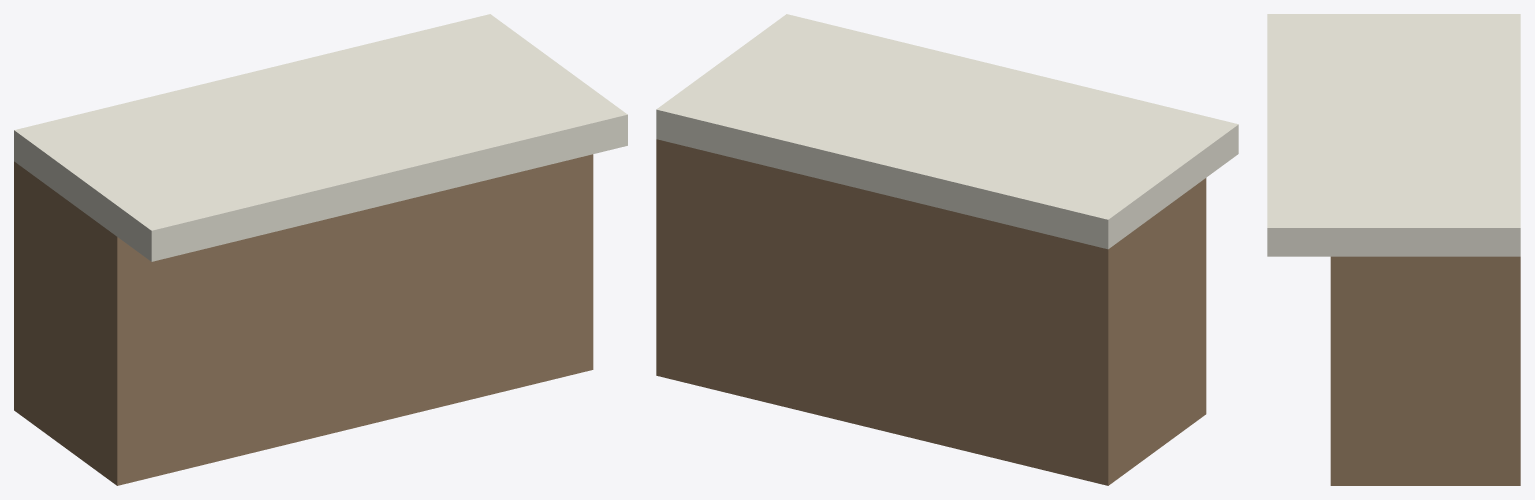
The model's file is kit_int_counter.glb.
3 renders of one model, left to right at view 1: azimuth 30°, elevation 25°; view 2: azimuth 150°, elevation 25°; view 3: azimuth 270°, elevation 25°, orthographic. The views are drawn at different scales.
Visible parts, largest first — view 1: kit_int_counter-col; view 2: kit_int_counter-col; view 3: kit_int_counter-col.
Part boxes in pixels (x1,y1,x2,y2): kit_int_counter-col: (14,14,627,485); kit_int_counter-col: (656,14,1238,485); kit_int_counter-col: (1267,14,1520,485).
Bounding box in the file's own units: 2 × 1.12 × 1.
